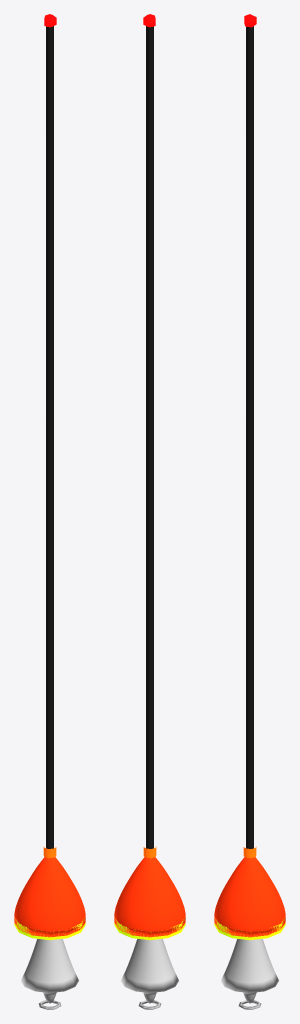
The model's file is fishing_float.glb.
3 renders of one model, left to right at view 1: azimuth 30°, elevation 25°; view 2: azimuth 150°, elevation 25°; view 3: azimuth 330°, elevation 25°, orthographic.
Visible parts, largest first — view 1: antenna_rod, body_upper, body_lower, body_band; view 2: antenna_rod, body_upper, body_lower, body_band; view 3: antenna_rod, body_upper, body_lower, body_band.
Part boxes in pixels (<box>): antenna_rod: <box>46,26,53,848</box>; body_upper: <box>14,857,85,937</box>; body_lower: <box>21,939,78,1003</box>; body_band: <box>14,917,85,940</box>; antenna_rod: <box>146,26,153,848</box>; body_upper: <box>114,857,185,937</box>; body_lower: <box>121,939,178,1003</box>; body_band: <box>114,917,185,940</box>; antenna_rod: <box>246,26,253,848</box>; body_upper: <box>214,857,285,937</box>; body_lower: <box>221,939,278,1003</box>; body_band: <box>214,917,285,940</box>.
Bounding box in the file's own units: 1.4 × 21.4 × 1.4.
